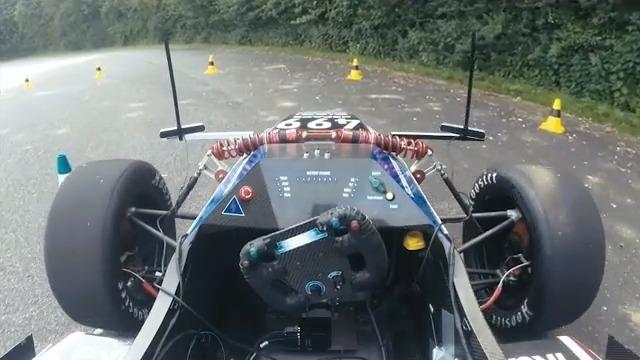blue_cone: (43, 146, 88, 187)
yellow_cone: (527, 93, 566, 143), (340, 50, 366, 79), (195, 52, 224, 76)
